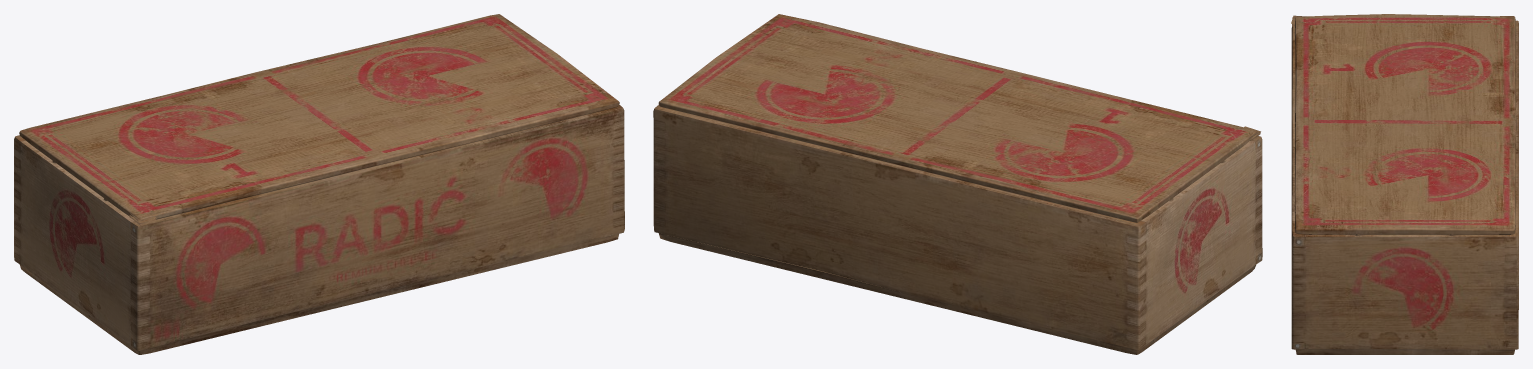
File: CheeseBox_01.glb
3 renders of one model, left to right at view 1: azimuth 30°, elevation 25°; view 2: azimuth 150°, elevation 25°; view 3: azimuth 270°, elevation 25°, orthographic. The views are drawn at different scales.
Parts seen in each view (by area): view 1: CheeseBox_01; view 2: CheeseBox_01; view 3: CheeseBox_01.
Part boxes in pixels (x1,y1,x2,y2): CheeseBox_01: (14, 14, 624, 354); CheeseBox_01: (653, 14, 1262, 354); CheeseBox_01: (1291, 14, 1518, 354).
Size of the model in its own units: 0.2404 by 0.066 by 0.1066.
1 material, 1 textured.
